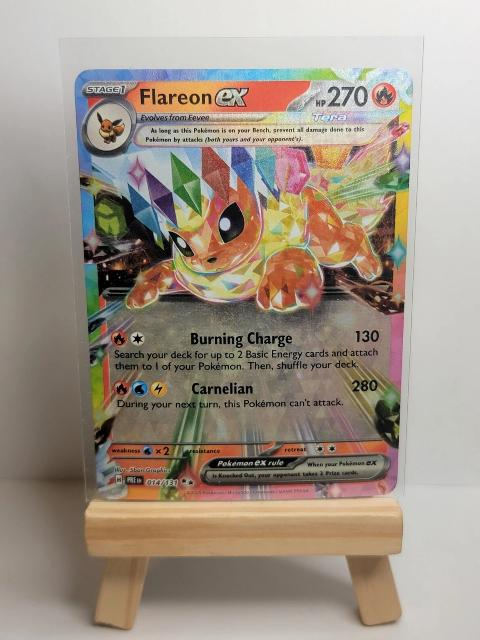Card: (68, 64, 418, 505)
Name: (136, 84, 253, 112)
